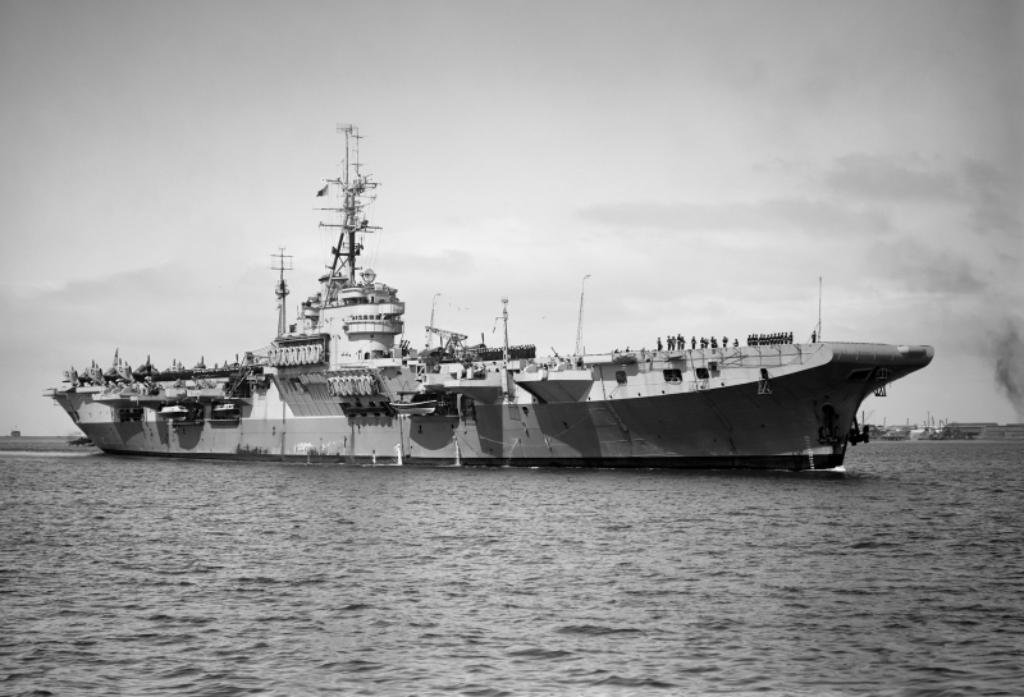Warship: (46, 120, 944, 473)
